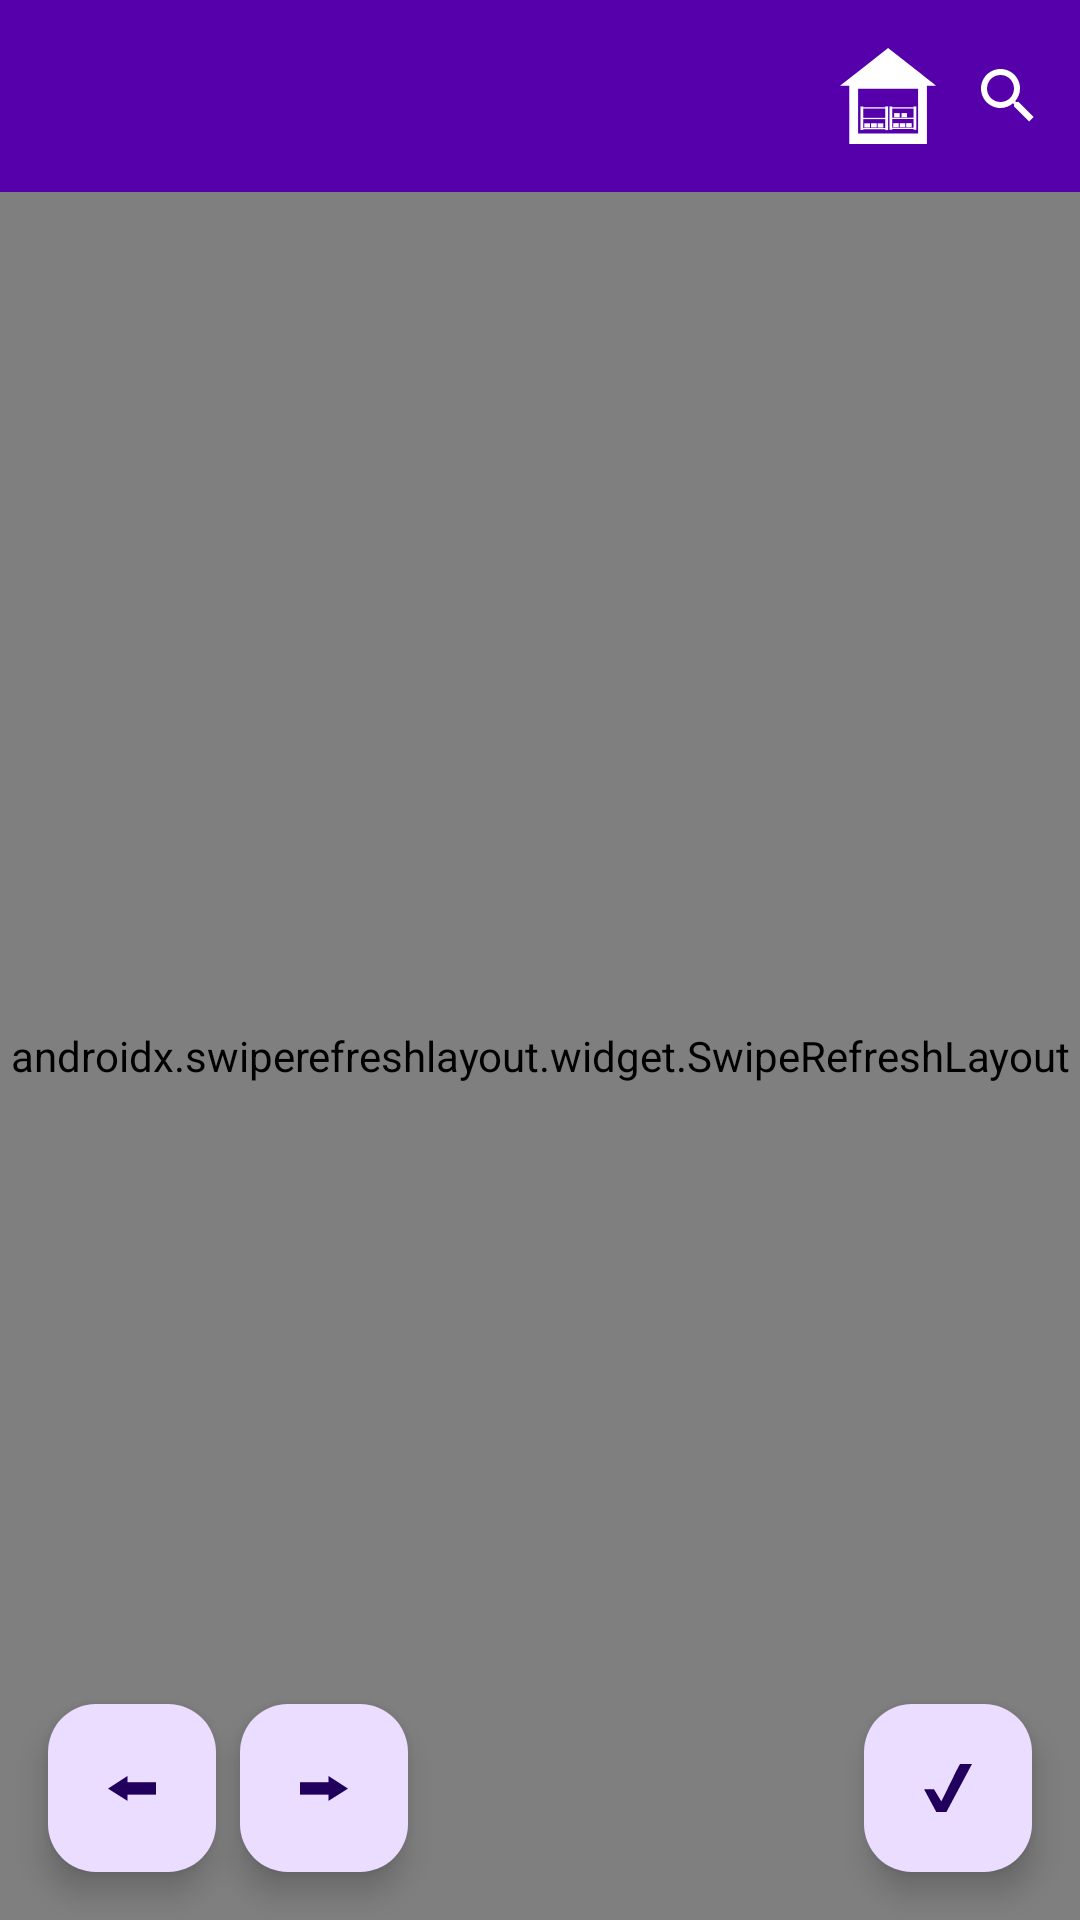

Point at icon controls on the screen. Image size 1080*1920, points as (x,y).
Back: (132,1788)
Next: (324,1788)
OK: (948,1788)
Selected warehouse: (888,96)
